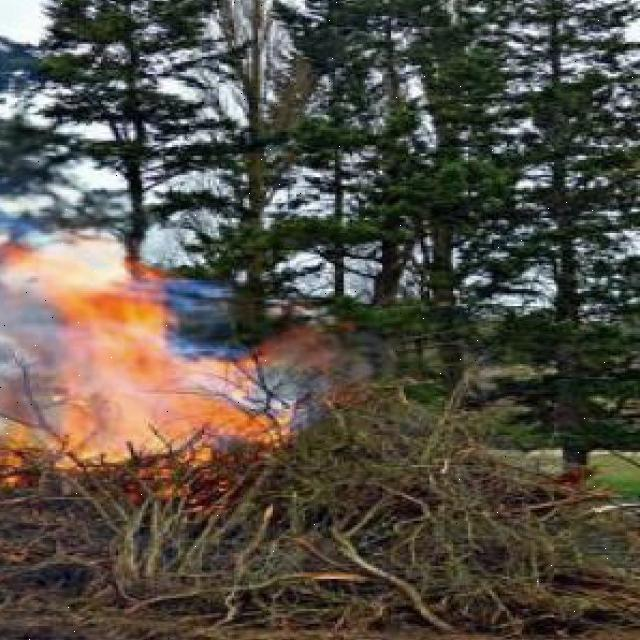fire: (22, 235, 254, 474)
smoke: (258, 330, 365, 418), (0, 181, 24, 435)
